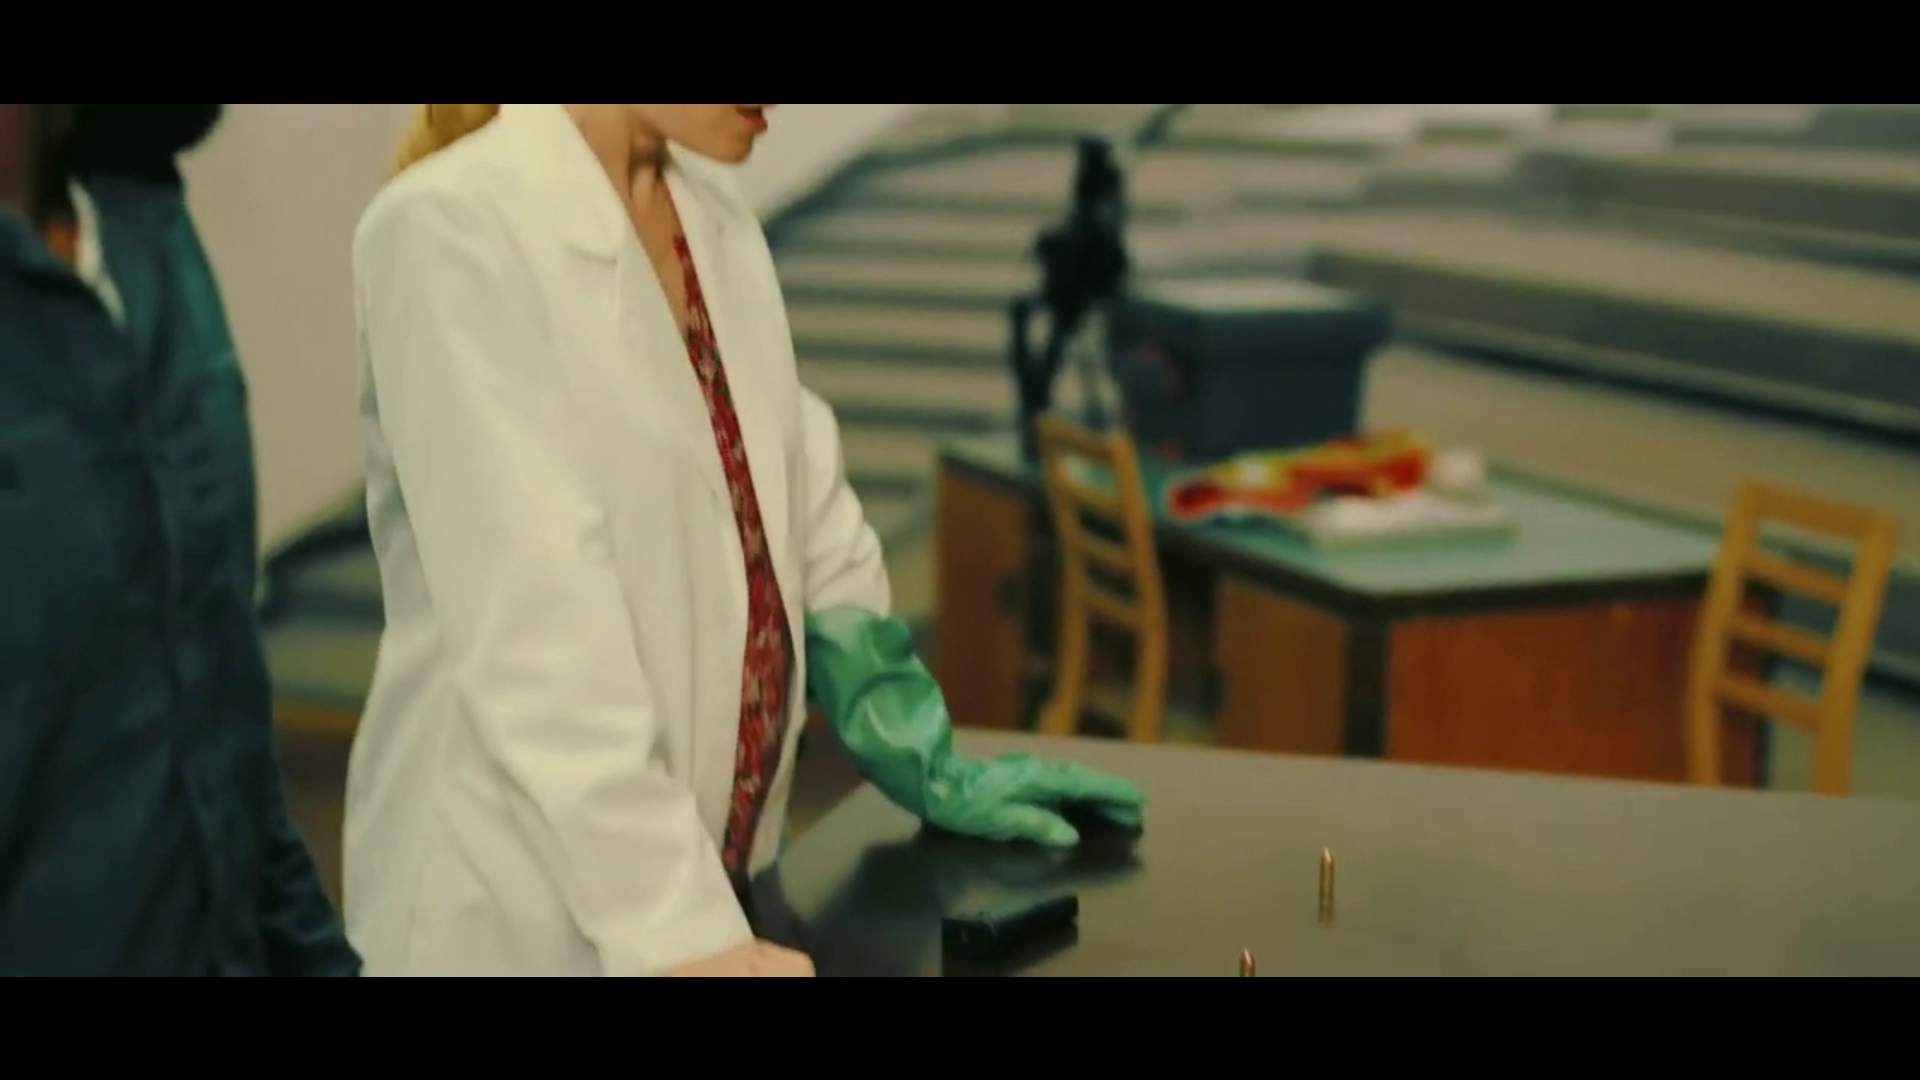Bullet: (1318, 849, 1339, 896), (1235, 942, 1256, 976)
